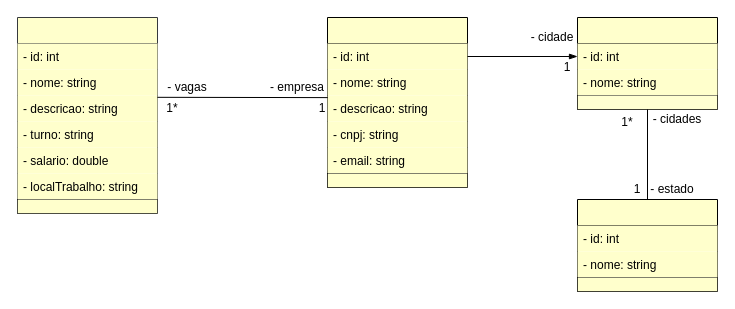
This 735x309 diagram has some shape labels left out. Each missing label, with the box of its shape:
Cidade: (576, 16, 718, 110)
Empresa: (326, 16, 468, 188)
Estado: (576, 198, 718, 292)
Vaga: (16, 16, 158, 214)
